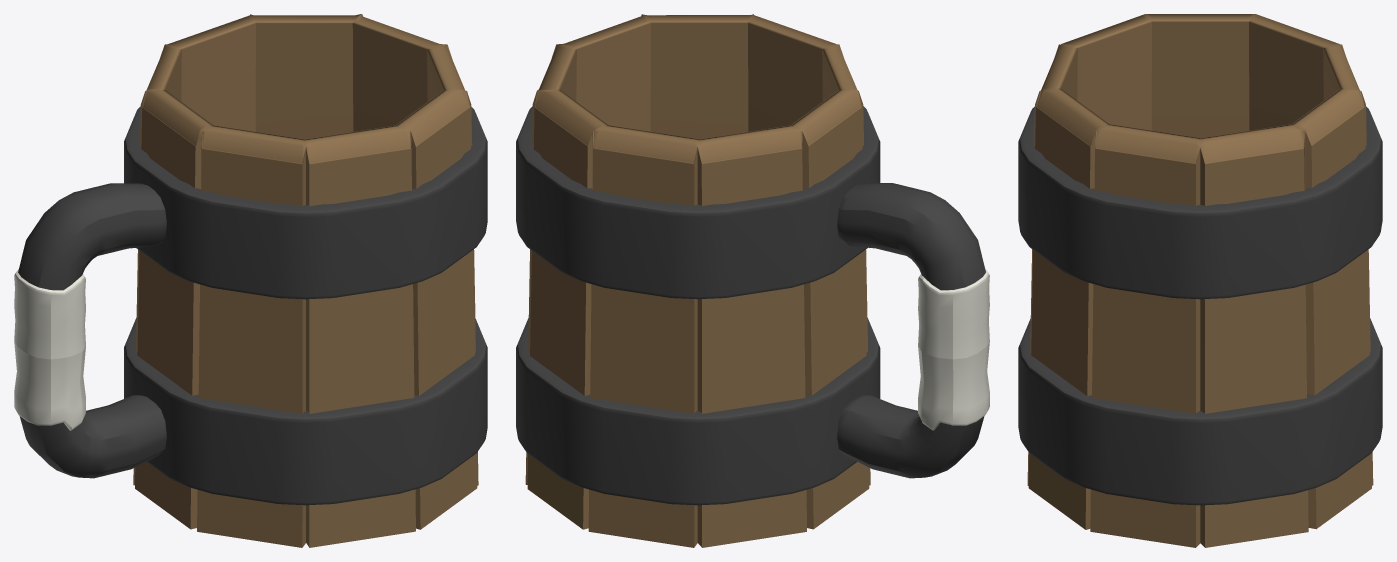
The model's file is Cup.fbx.
The picture shows the model from 3 angles, left to right: view 1: azimuth 30°, elevation 25°; view 2: azimuth 150°, elevation 25°; view 3: azimuth 270°, elevation 25°; orthographic projection.
Parts seen in each view (by area): view 1: Cup; view 2: Cup; view 3: Cup.
Boxes of the visible parts, bbox=[...] form: Cup: bbox=[14, 14, 487, 547]; Cup: bbox=[516, 14, 989, 547]; Cup: bbox=[1018, 14, 1382, 547].
Size of the model in its own units: 2.9 by 2.48 by 2.07.
